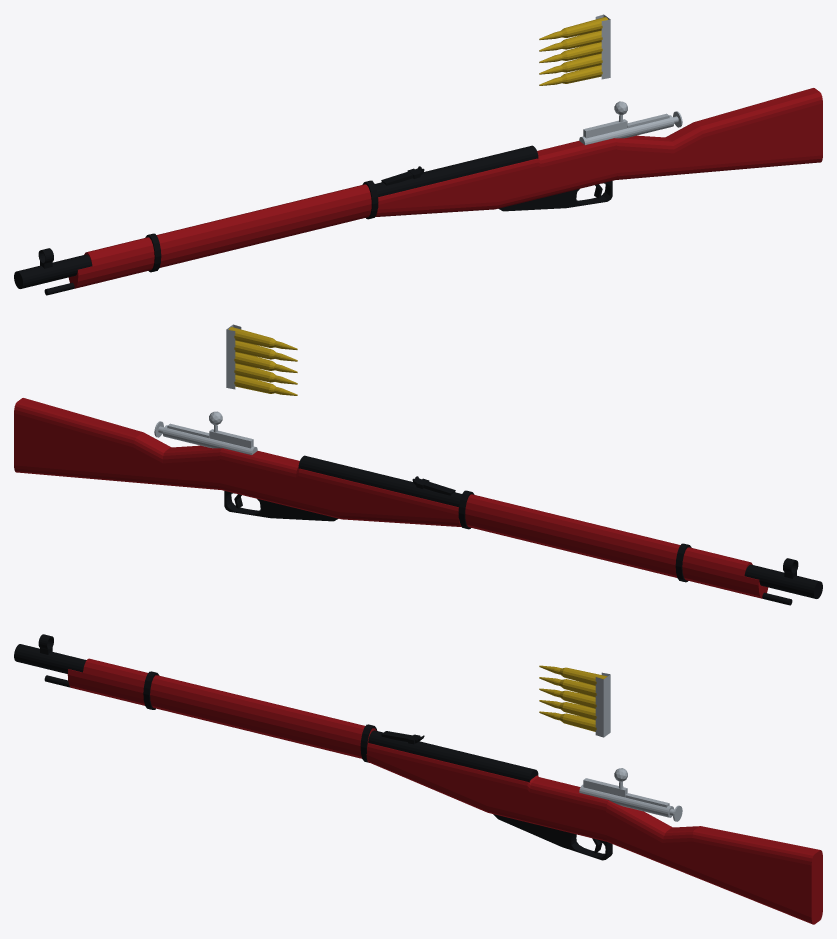
Rendered from mosin-nagant0038.obj.
3 views of the same model, one above another, from view 1: azimuth 30°, elevation 25°; view 2: azimuth 150°, elevation 25°; view 3: azimuth 330°, elevation 25° (orthographic).
Visible parts, largest first — view 1: stock, barrel, triggerGuard, bolt, bullet1, clip, bullet2, bullet4, bullet5, bullet3; view 2: stock, barrel, triggerGuard, bolt, bullet1, clip, bullet2, bullet4, bullet5, bullet3; view 3: stock, barrel, triggerGuard, clip, bolt, bullet1.
Part boxes in pixels (bbox=[...]): stock: bbox=[68, 88, 822, 288]; barrel: bbox=[14, 145, 538, 288]; triggerGuard: bbox=[498, 181, 612, 211]; bolt: bbox=[579, 115, 674, 145]; bullet1: bbox=[539, 17, 608, 39]; clip: bbox=[595, 14, 610, 79]; bullet2: bbox=[539, 30, 602, 51]; bullet4: bbox=[539, 53, 602, 74]; bullet5: bbox=[539, 65, 602, 85]; bullet3: bbox=[539, 42, 602, 62]; stock: bbox=[14, 398, 768, 598]; barrel: bbox=[298, 455, 822, 598]; triggerGuard: bbox=[224, 491, 338, 521]; bolt: bbox=[162, 425, 257, 455]; bullet1: bbox=[228, 327, 297, 349]; clip: bbox=[226, 324, 241, 389]; bullet2: bbox=[234, 340, 297, 361]; bullet4: bbox=[234, 363, 297, 384]; bullet5: bbox=[234, 375, 297, 395]; bullet3: bbox=[234, 352, 297, 372]; stock: bbox=[67, 658, 822, 924]; barrel: bbox=[14, 644, 538, 782]; triggerGuard: bbox=[493, 814, 612, 860]; clip: bbox=[595, 672, 610, 737]; bolt: bbox=[579, 784, 673, 817]; bullet1: bbox=[539, 665, 607, 685].
Bounding box in the file's own units: 16.32 × 3.8 × 0.4228.
